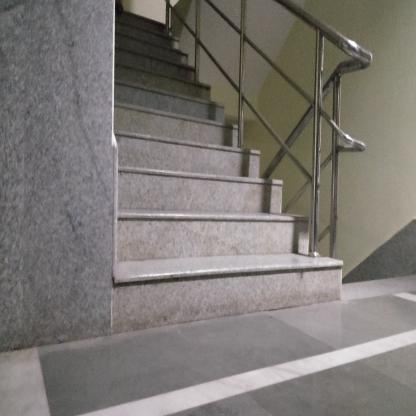stairs: (122, 155, 260, 333)
